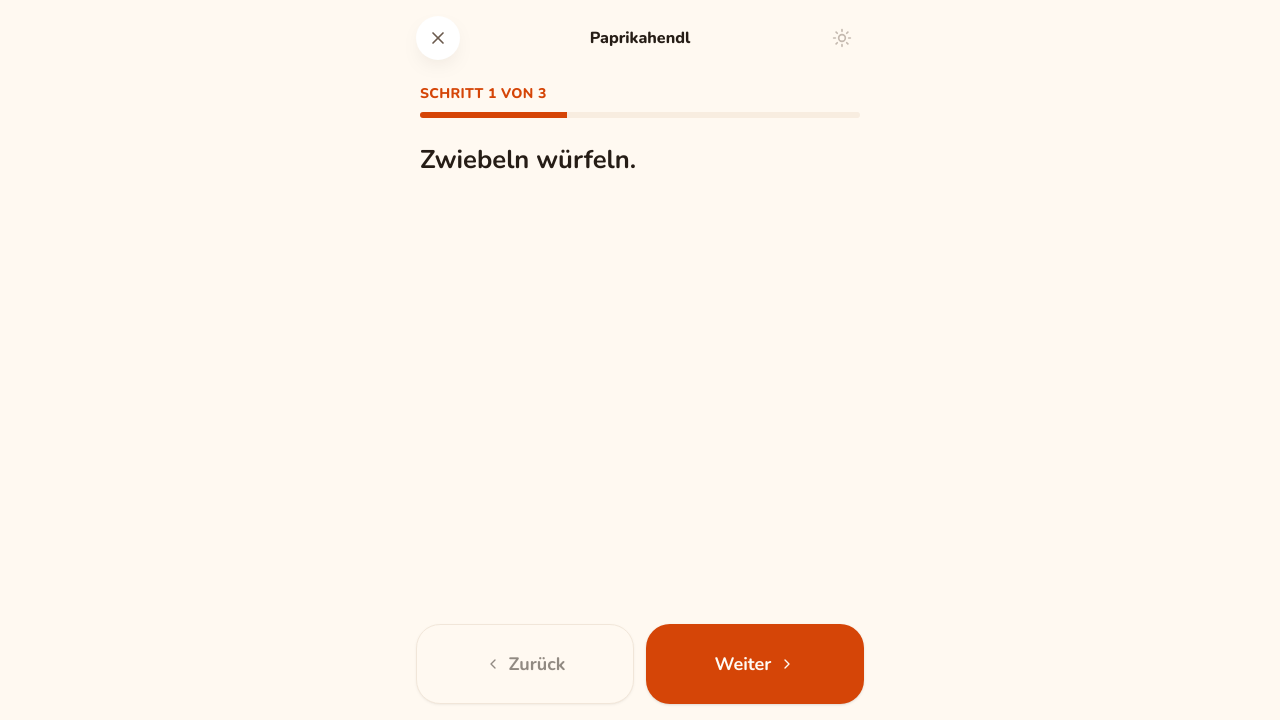
it: CookMode › keeps a timer running across steps, rings when done, then asks for a rating
The image size is (1280, 720).
Later steps or results of the test are not shown.
expect the text "Schritt 1 von 3" is shown: met, box [420,84,547,103]
Click the button "Weiter" at x=755, y=664, box [646,624,864,704]
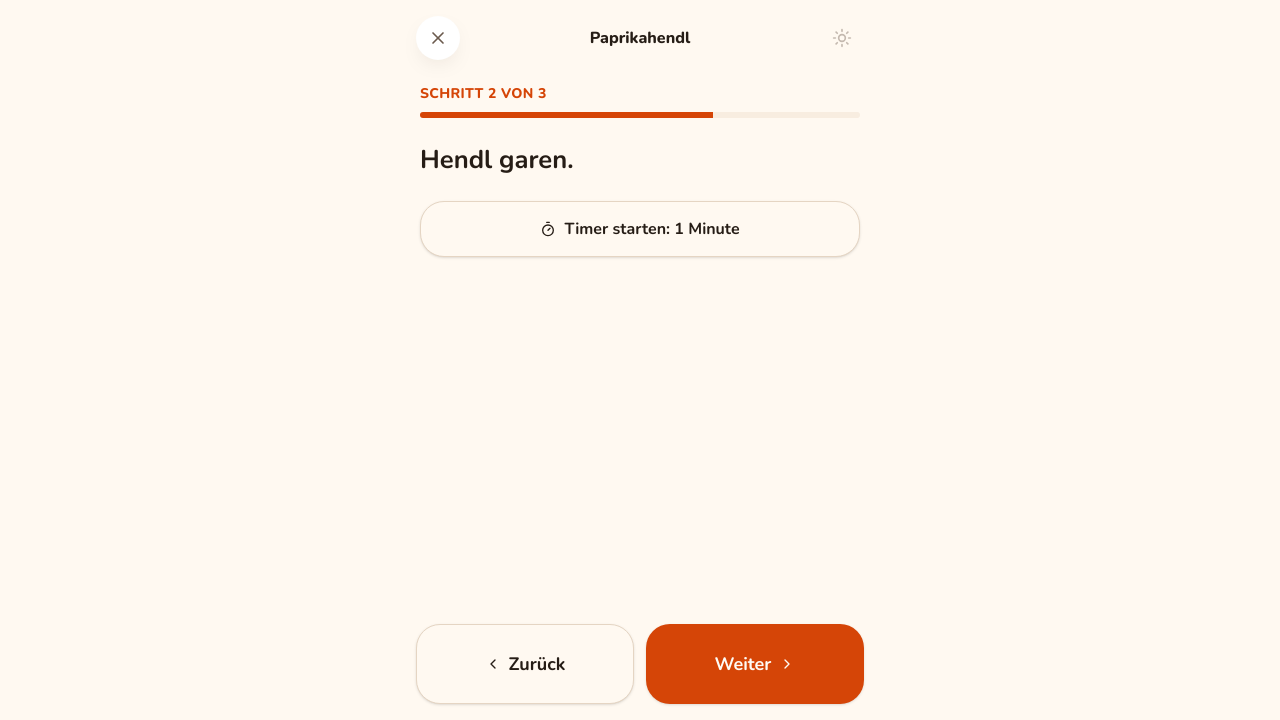
Click the button "Timer starten: 1 Minute" at x=640, y=229, box [420,201,860,257]
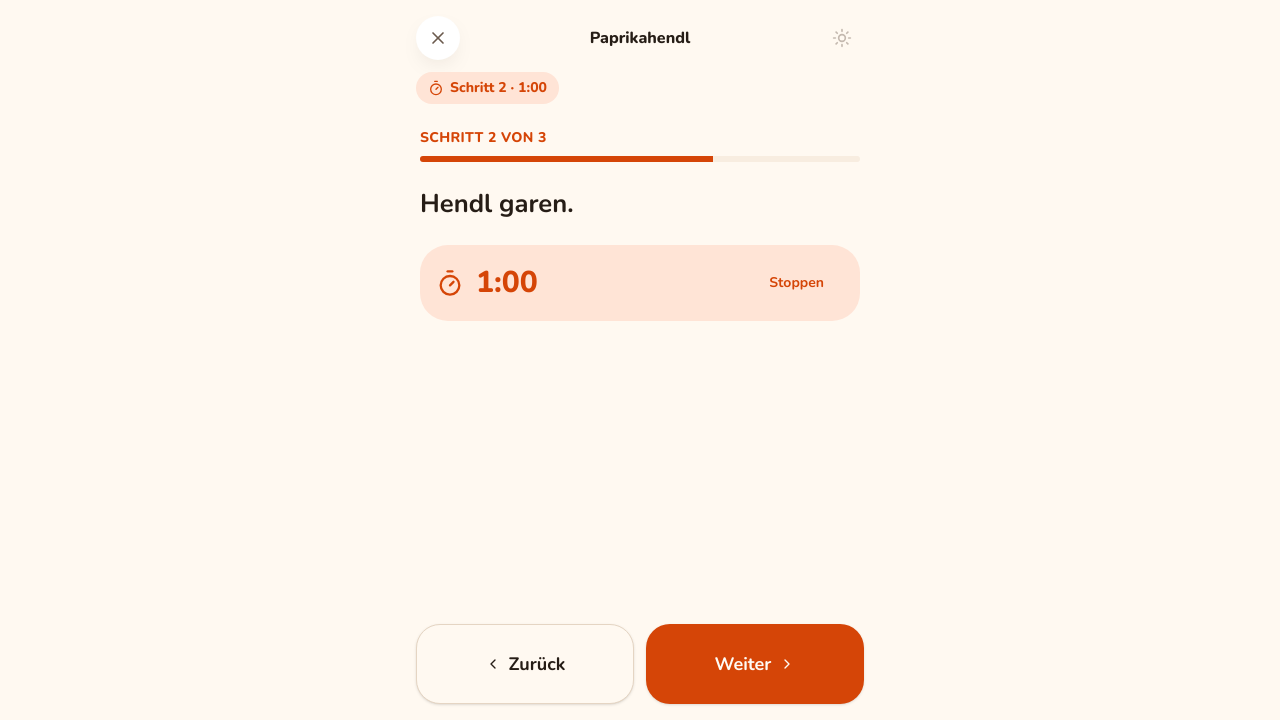
Click the button "Weiter" at x=755, y=664, box [646,624,864,704]
Wait 61000 ms
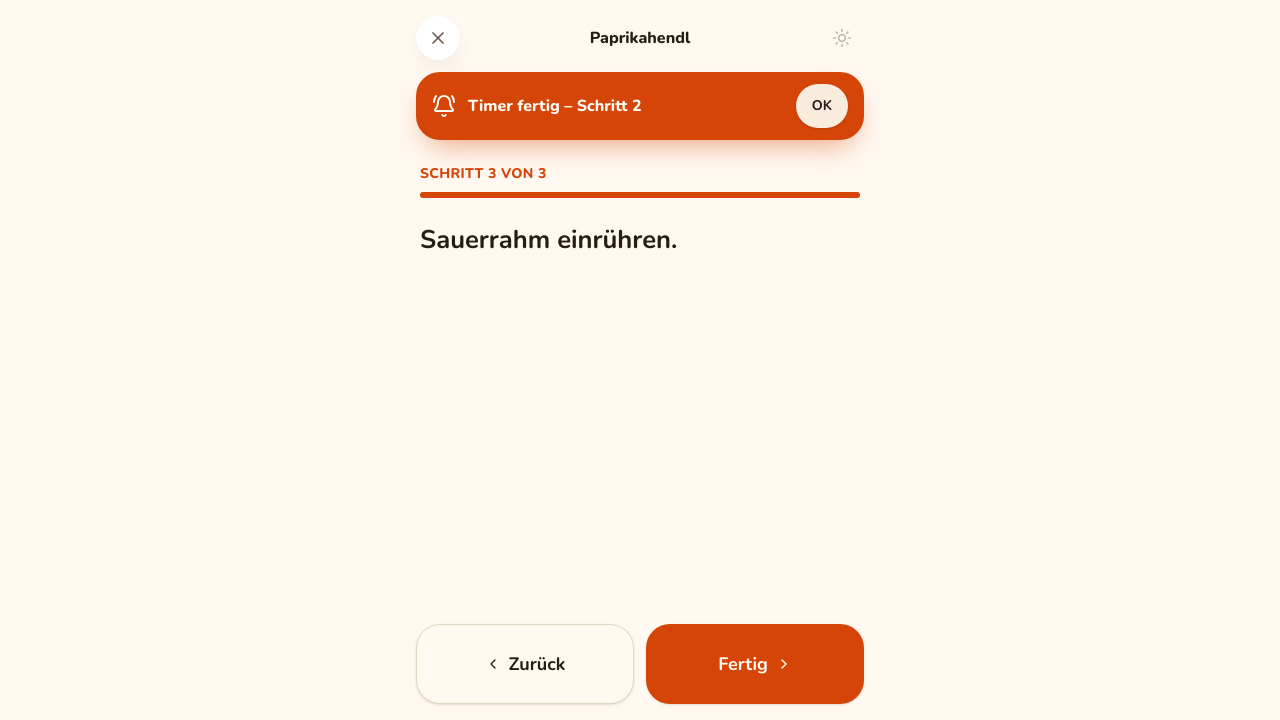
expect the text "Schritt 3 von 3" is shown: met, box [420,164,547,183]
expect the message shows "Timer fertig – Schritt 2": met, box [468,95,642,117]
Click the button "Fertig" at x=755, y=664, box [646,624,864,704]
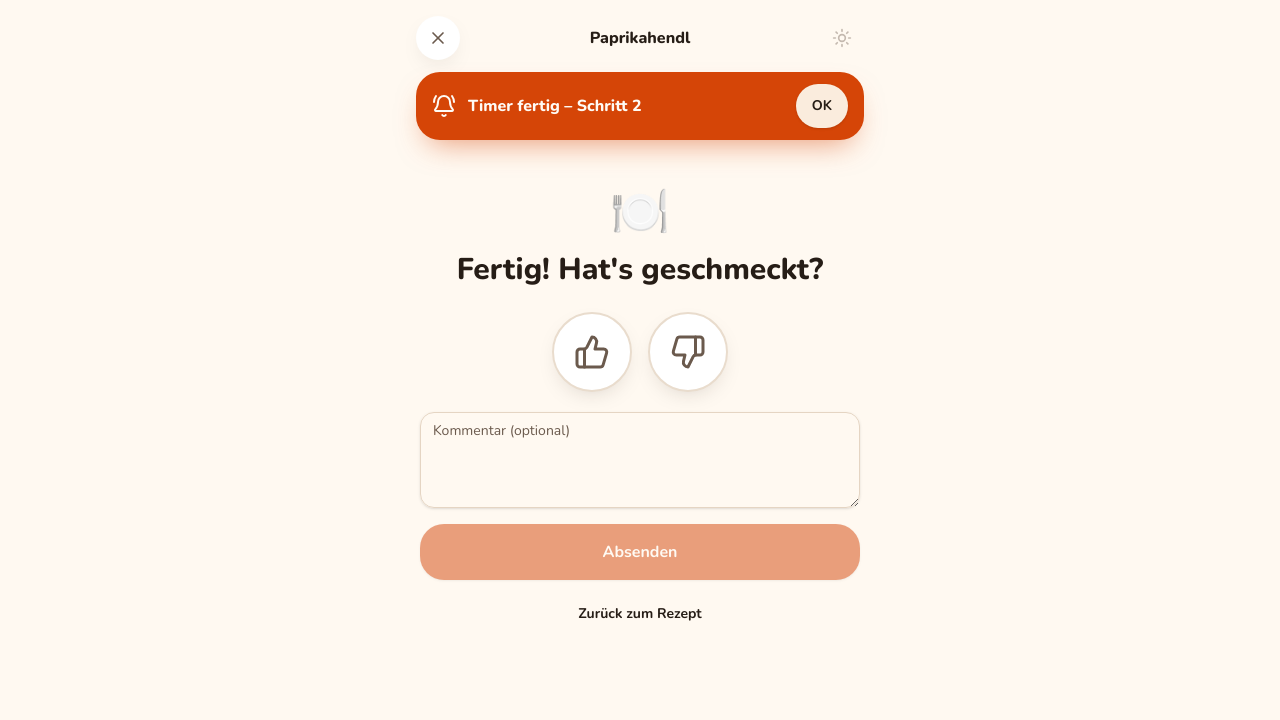
expect the heading "Fertig! Hat's geschmeckt?" is shown: met, box [457,252,823,288]
